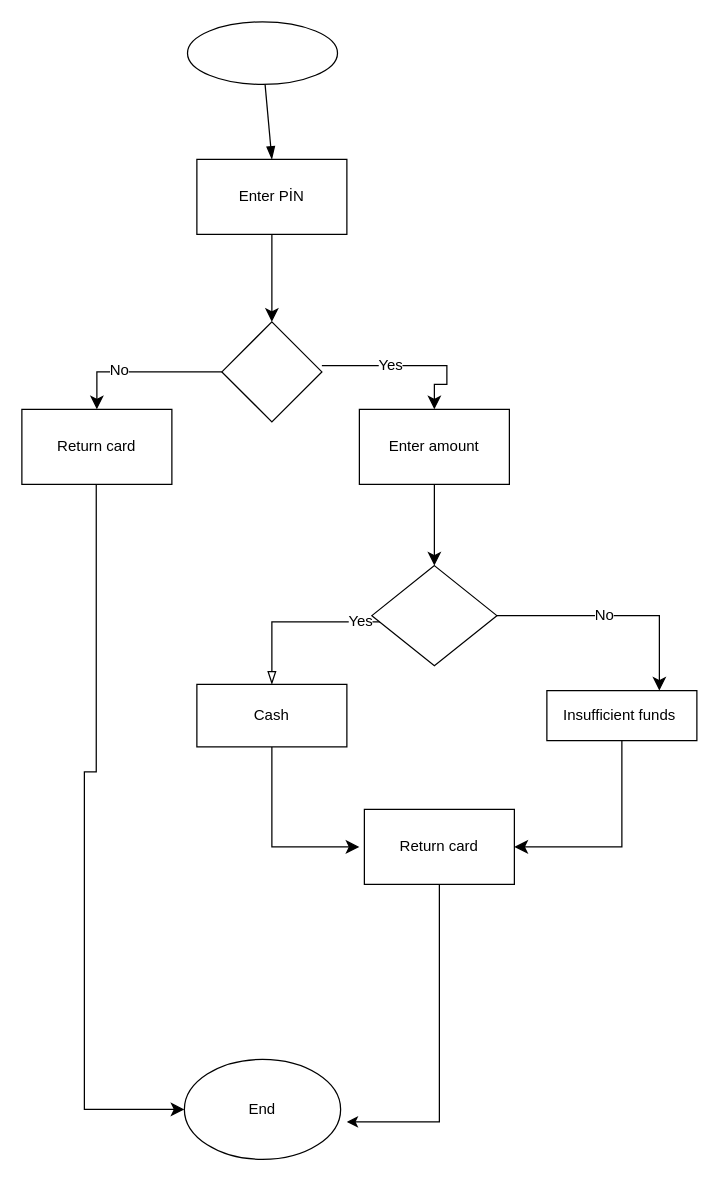
The diagram is 719 pixels wide and 1181 high, and some of its shapes have lost their labels. Here are the shapes that lost their labels. From the top down, the box of each, then its label:
(186, 21, 338, 84): Start
(221, 321, 322, 422): İs PİN correct?
(371, 564, 497, 666): Is balance enough?
